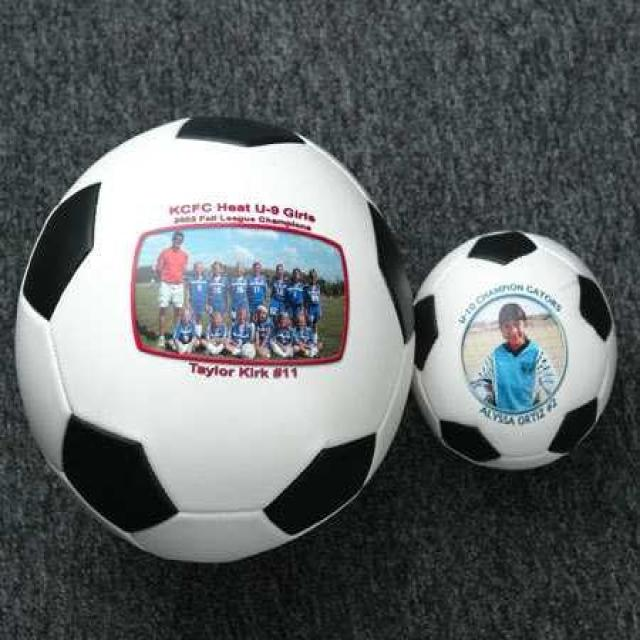ball: (14, 114, 414, 564), (414, 228, 616, 474)
